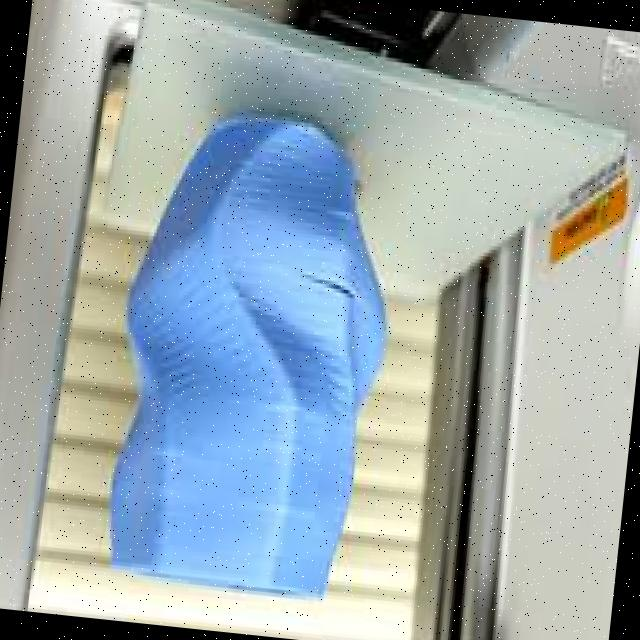cracks: (313, 264, 361, 318)
